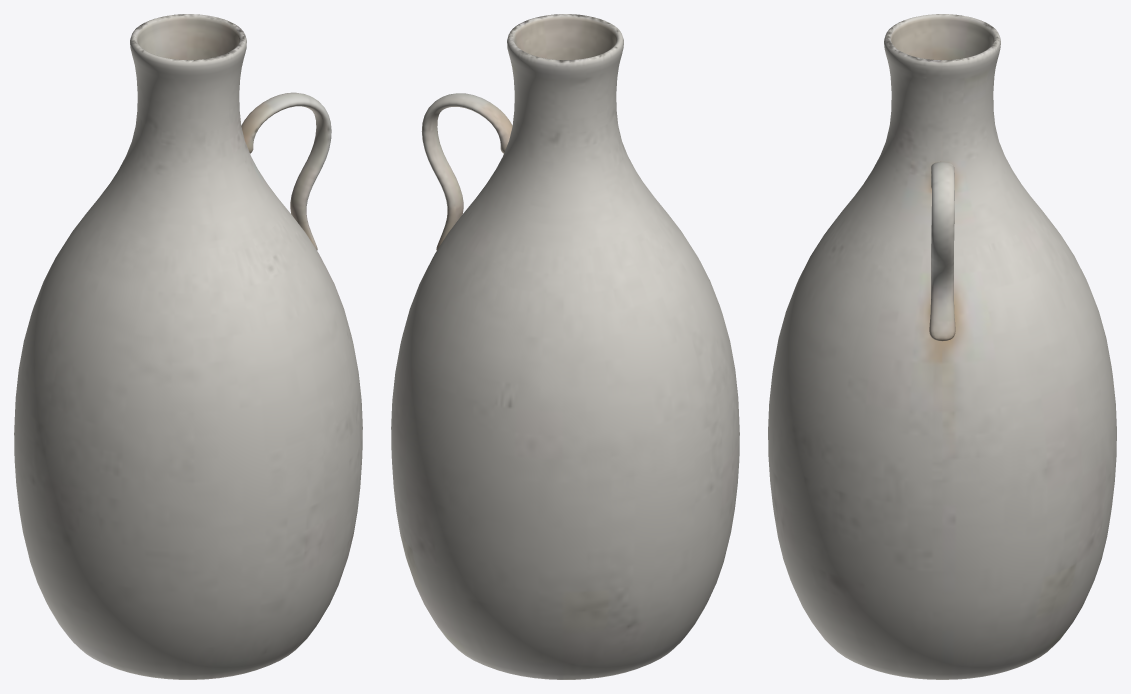
The model's file is vase-jug.glb.
3 renders of one model, left to right at view 1: azimuth 30°, elevation 25°; view 2: azimuth 150°, elevation 25°; view 3: azimuth 270°, elevation 25°, orthographic.
Parts seen in each view (by area): view 1: ceramic_vase_04; view 2: ceramic_vase_04; view 3: ceramic_vase_04.
Part boxes in pixels (<box>): ceramic_vase_04: <box>14,14,362,679</box>; ceramic_vase_04: <box>391,14,739,679</box>; ceramic_vase_04: <box>768,14,1116,679</box>.
Bounding box in the file's own units: 0.1811 × 0.3419 × 0.1811.
1 material, 1 textured.
